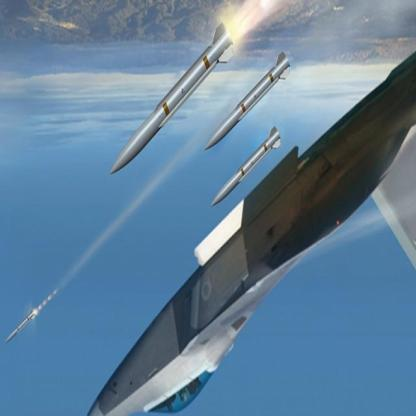MIL_TBM: (104, 19, 230, 181), (209, 119, 285, 214), (2, 304, 40, 350)
